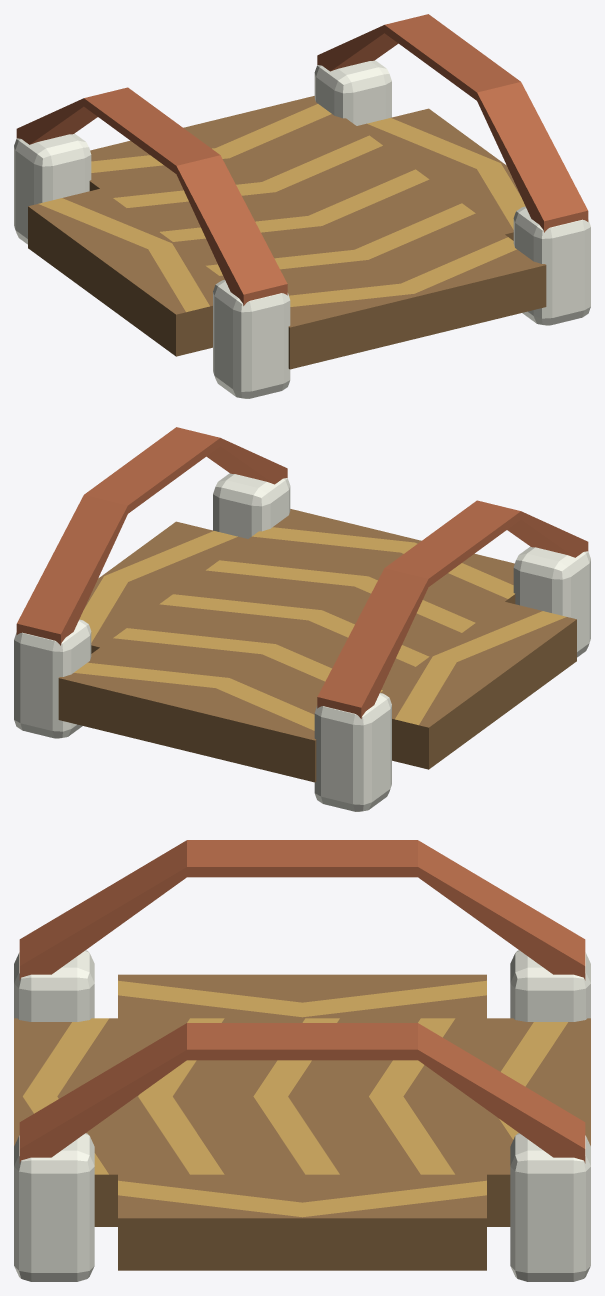
Rendered from crossing.glb.
The picture shows the model from 3 angles, top to bottom: view 1: azimuth 30°, elevation 25°; view 2: azimuth 150°, elevation 25°; view 3: azimuth 270°, elevation 25°; orthographic projection. The views are drawn at different scales.
Parts seen in each view (by area): view 1: Deck_flush_forward_chevron, Deck_flush_branch_chevron, Crossing_copper_bridge_shoulder, Crossing_copper_bridge_shoulder.001, Deck_flush_forward_chevron.003, Deck_flush_forward_chevron.002, Deck_flush_forward_chevron.001, Deck_flush_forward_chevron.004, Deck_flush_branch_chevron.001, Crossing_ceramic_bridge_foot, Crossing_ceramic_bridge_foot.002, Crossing_ceramic_bridge_foot.001 (+1 smaller); view 2: Deck_flush_forward_chevron.004, Deck_flush_branch_chevron, Crossing_copper_bridge_shoulder, Crossing_copper_bridge_shoulder.001, Deck_flush_forward_chevron.001, Deck_flush_forward_chevron.002, Deck_flush_forward_chevron.003, Deck_flush_forward_chevron, Deck_flush_branch_chevron.001, Crossing_ceramic_bridge_foot.001, Crossing_ceramic_bridge_foot.003, Crossing_ceramic_bridge_foot (+1 smaller); view 3: Deck_flush_branch_chevron.001, Crossing_copper_bridge_shoulder, Crossing_copper_bridge_shoulder.001, Deck_flush_branch_chevron, Deck_flush_forward_chevron.002, Deck_flush_forward_chevron.001, Deck_flush_forward_chevron.003, Deck_flush_forward_chevron, Deck_flush_forward_chevron.004, Crossing_ceramic_bridge_foot.002, Crossing_ceramic_bridge_foot.003, Crossing_ceramic_bridge_foot (+1 smaller).
Boxes of the visible parts, bbox=[...] form: Deck_flush_forward_chevron: bbox=[287, 231, 546, 369]; Deck_flush_branch_chevron: bbox=[28, 189, 224, 356]; Crossing_copper_bridge_shoulder: bbox=[16, 87, 287, 305]; Crossing_copper_bridge_shoulder.001: bbox=[317, 14, 588, 232]; Deck_flush_forward_chevron.003: bbox=[105, 129, 407, 225]; Deck_flush_forward_chevron.002: bbox=[151, 163, 453, 259]; Deck_flush_forward_chevron.001: bbox=[198, 197, 499, 282]; Deck_flush_forward_chevron.004: bbox=[89, 96, 360, 191]; Deck_flush_branch_chevron.001: bbox=[357, 108, 525, 240]; Crossing_ceramic_bridge_foot: bbox=[213, 280, 290, 398]; Crossing_ceramic_bridge_foot.002: bbox=[513, 206, 590, 325]; Crossing_ceramic_bridge_foot.001: bbox=[14, 133, 91, 244]; Deck_flush_forward_chevron.004: bbox=[58, 644, 317, 782]; Deck_flush_branch_chevron: bbox=[380, 602, 576, 769]; Crossing_copper_bridge_shoulder: bbox=[317, 500, 588, 718]; Crossing_copper_bridge_shoulder.001: bbox=[16, 427, 287, 645]; Deck_flush_forward_chevron.001: bbox=[197, 542, 499, 638]; Deck_flush_forward_chevron.002: bbox=[151, 576, 453, 672]; Deck_flush_forward_chevron.003: bbox=[105, 610, 406, 695]; Deck_flush_forward_chevron: bbox=[244, 509, 515, 604]; Deck_flush_branch_chevron.001: bbox=[79, 521, 247, 653]; Crossing_ceramic_bridge_foot.001: bbox=[314, 693, 391, 811]; Crossing_ceramic_bridge_foot.003: bbox=[14, 619, 91, 738]; Crossing_ceramic_bridge_foot: bbox=[513, 546, 590, 657]; Deck_flush_branch_chevron.001: bbox=[118, 1174, 486, 1270]; Crossing_copper_bridge_shoulder: bbox=[19, 840, 585, 980]; Crossing_copper_bridge_shoulder.001: bbox=[19, 1023, 585, 1163]; Deck_flush_branch_chevron: bbox=[118, 974, 486, 1018]; Deck_flush_forward_chevron.002: bbox=[244, 1018, 360, 1174]; Deck_flush_forward_chevron.001: bbox=[129, 1018, 244, 1174]; Deck_flush_forward_chevron.003: bbox=[360, 1018, 475, 1174]; Deck_flush_forward_chevron: bbox=[14, 1018, 129, 1226]; Deck_flush_forward_chevron.004: bbox=[475, 1018, 590, 1226]; Crossing_ceramic_bridge_foot.002: bbox=[14, 1133, 94, 1281]; Crossing_ceramic_bridge_foot.003: bbox=[510, 1133, 590, 1281]; Crossing_ceramic_bridge_foot: bbox=[14, 950, 94, 1021].
Bounding box in the file's own units: 1 × 0.45 × 1.
